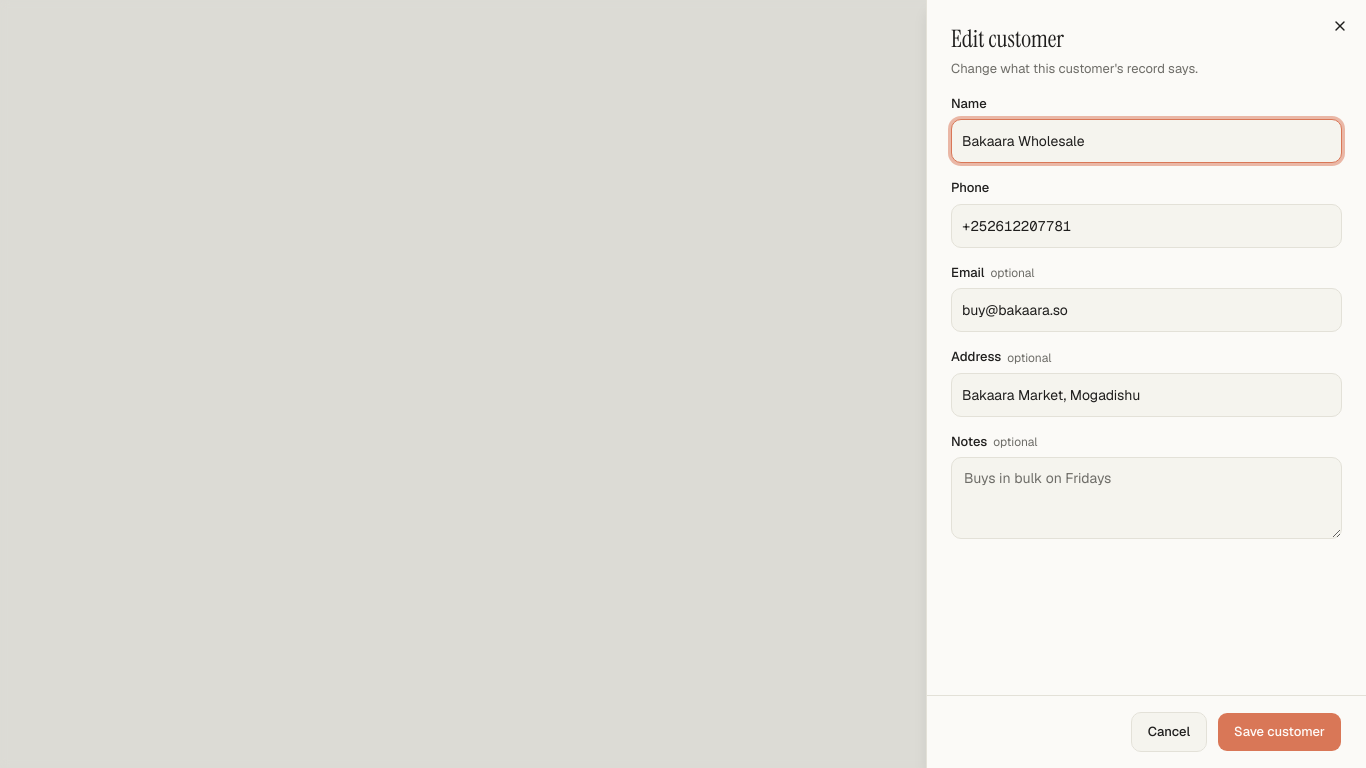
Test: CustomerFormSheet — editing › says an email cannot be cleared instead of dropping the change in silence
Clear the field labelled "Email optional" at (1146, 310), box left=951, top=288, right=1342, bottom=332
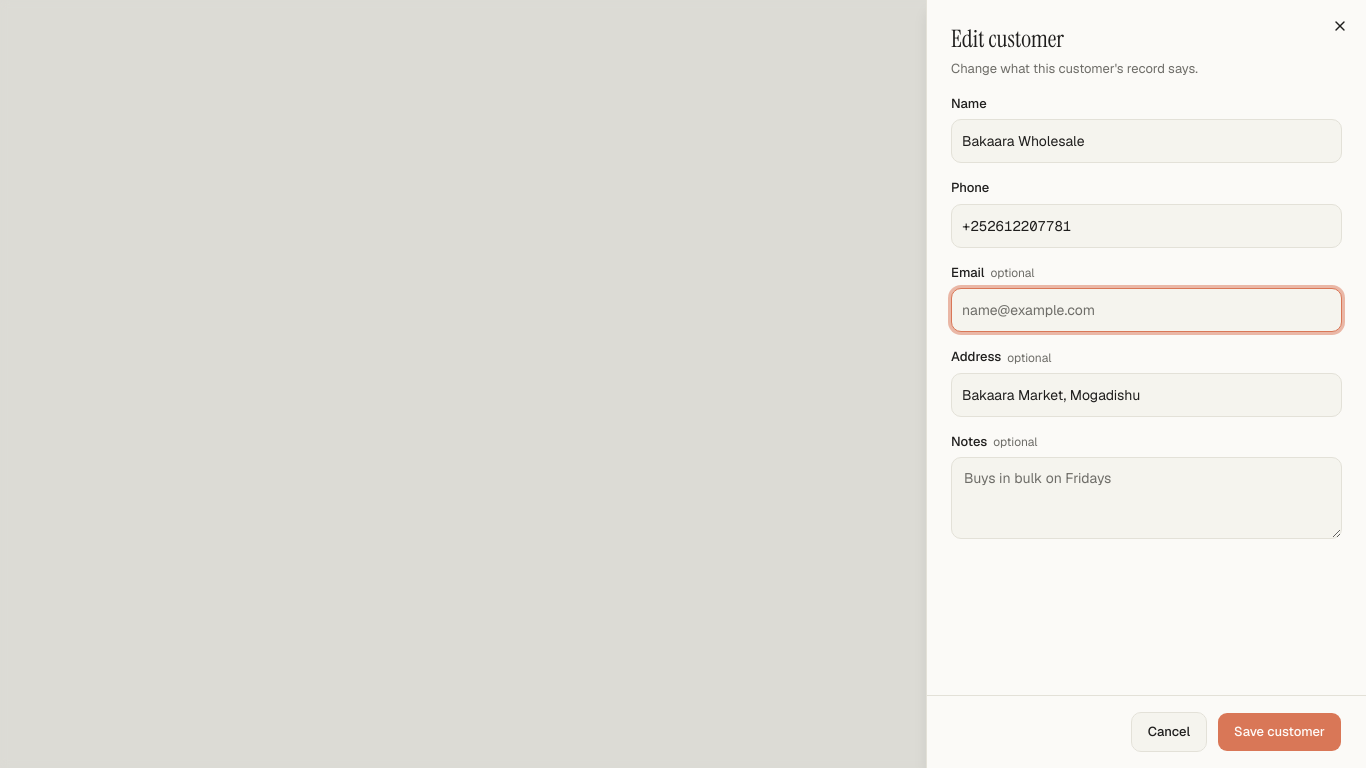
Click the button "Save customer".
click(1280, 732)  # box left=1217, top=712, right=1342, bottom=752
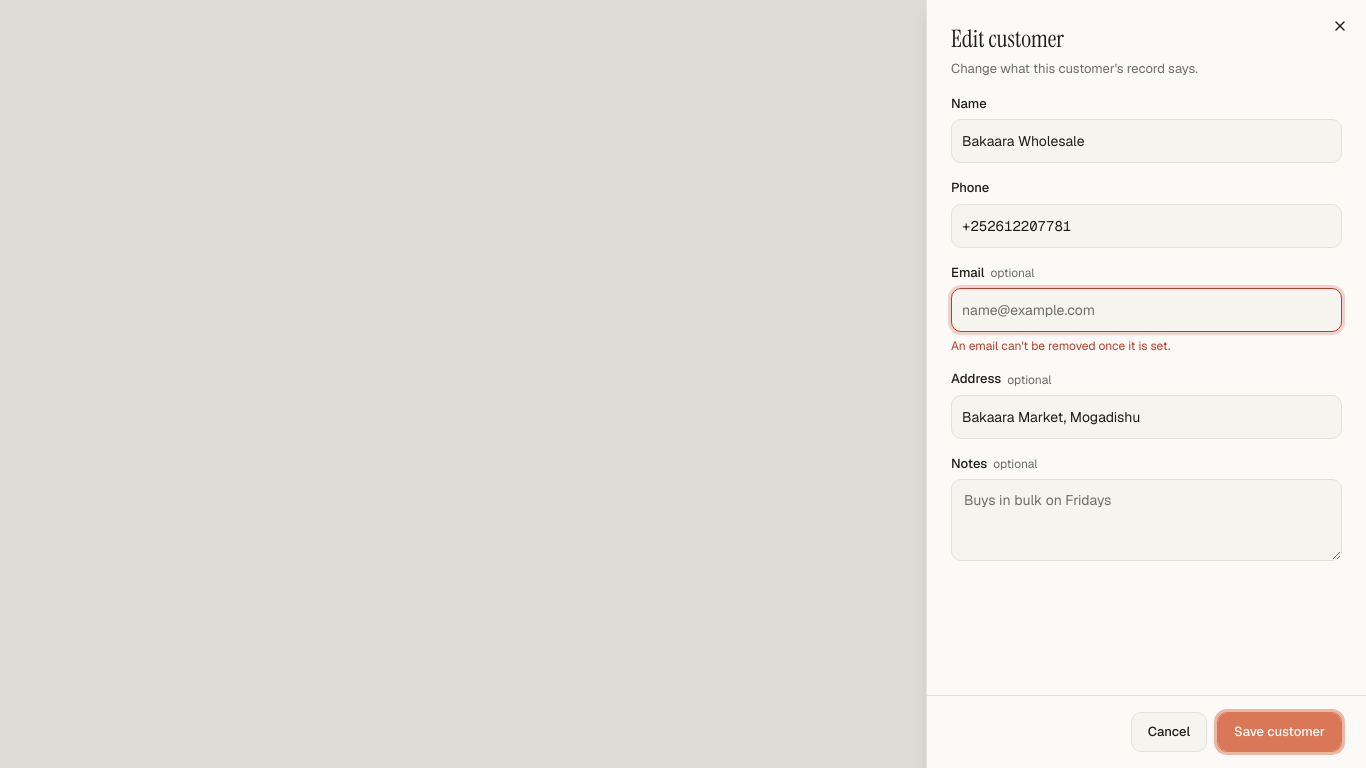
Result: the text "An email can't be removed once it is set." is shown at left=951, top=338, right=1170, bottom=354
